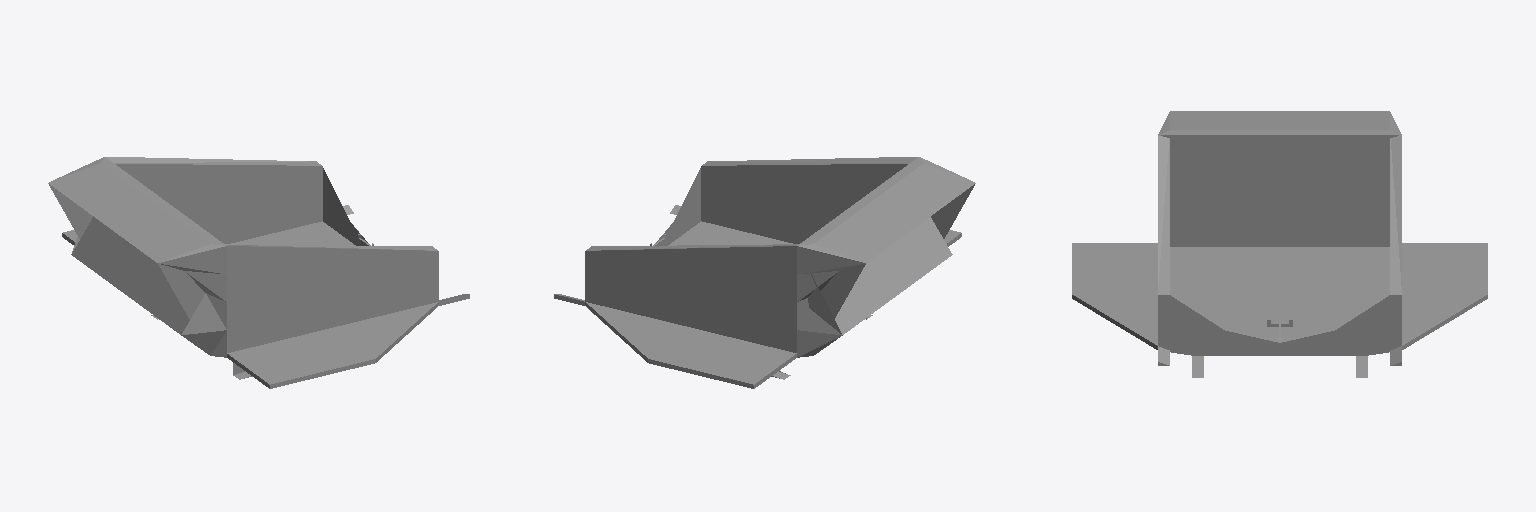
File: trenoSemHelice.obj
3 renders of one model, left to right at view 1: azimuth 30°, elevation 25°; view 2: azimuth 150°, elevation 25°; view 3: azimuth 270°, elevation 25°, orthographic.
Visible parts, largest first — view 1: Cube; view 2: Cube; view 3: Cube.
Part boxes in pixels (x1,y1,x2,y2): Cube: (48, 157, 469, 388); Cube: (554, 157, 975, 388); Cube: (1072, 111, 1487, 377).
Size of the model in its own units: 2.9 by 1.39 by 3.4.